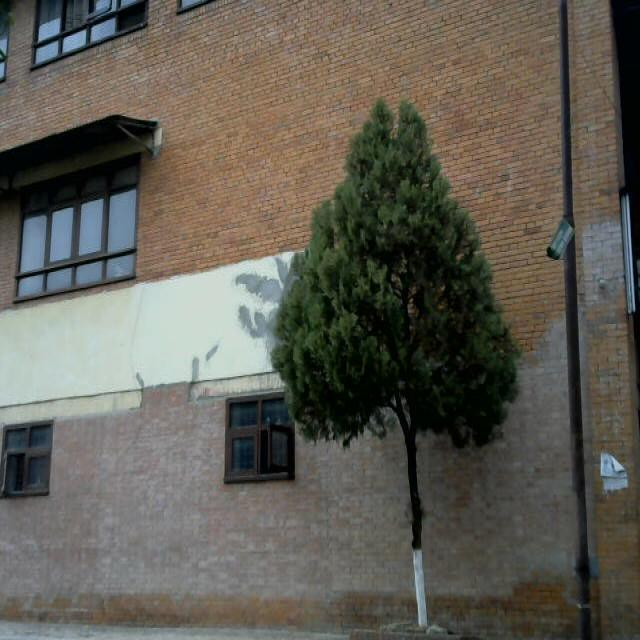Buildings: (0, 5, 335, 640)
Pole: (538, 0, 590, 640)
trees: (268, 105, 506, 639)
